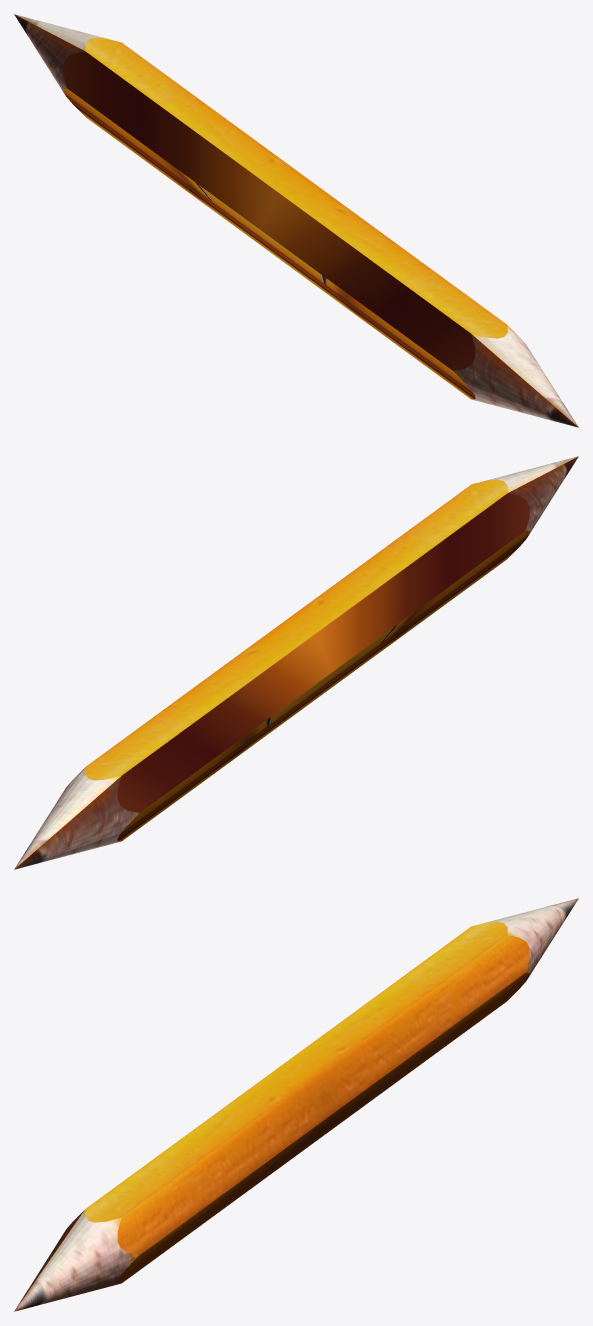
File: pencil.fbx
3 views of the same model, one above another, from view 1: azimuth 30°, elevation 25°; view 2: azimuth 150°, elevation 25°; view 3: azimuth 330°, elevation 25° (orthographic).
Parts seen in each view (by area): view 1: Cylinder.001; view 2: Cylinder.001; view 3: Cylinder.001.
Boxes of the visible parts, x1,y1,x2,y2 form: Cylinder.001: (14,14,578,427); Cylinder.001: (14,456,578,869); Cylinder.001: (14,898,578,1311).
Size of the model in its own units: 200 by 173 by 2698.
